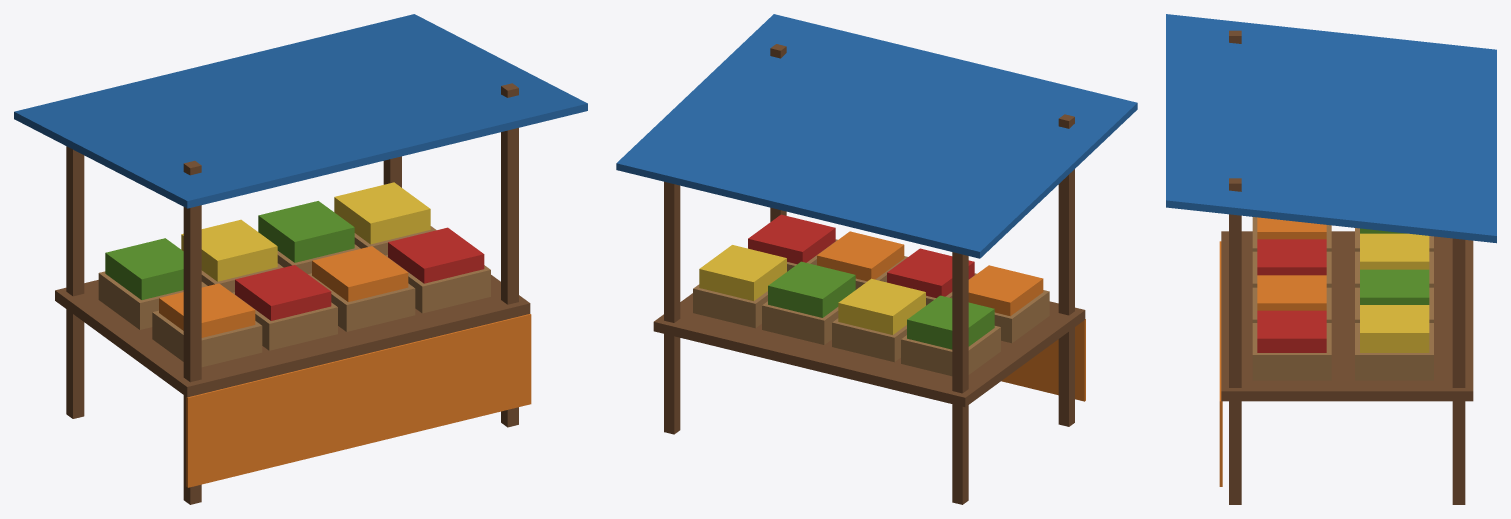
The model's file is prop_market_stall_b.glb.
3 renders of one model, left to right at view 1: azimuth 30°, elevation 25°; view 2: azimuth 150°, elevation 25°; view 3: azimuth 270°, elevation 25°, orthographic. The views are drawn at different scales.
Visible parts, largest first — view 1: prop_market_stall_b; view 2: prop_market_stall_b; view 3: prop_market_stall_b.
Part boxes in pixels (left/top/right/bottom): prop_market_stall_b: left=14, top=14, right=587, bottom=504; prop_market_stall_b: left=616, top=14, right=1137, bottom=504; prop_market_stall_b: left=1166, top=14, right=1496, bottom=504.
Size of what is drawn, in the model's own units: 2.8 by 2.25 by 2.1.
